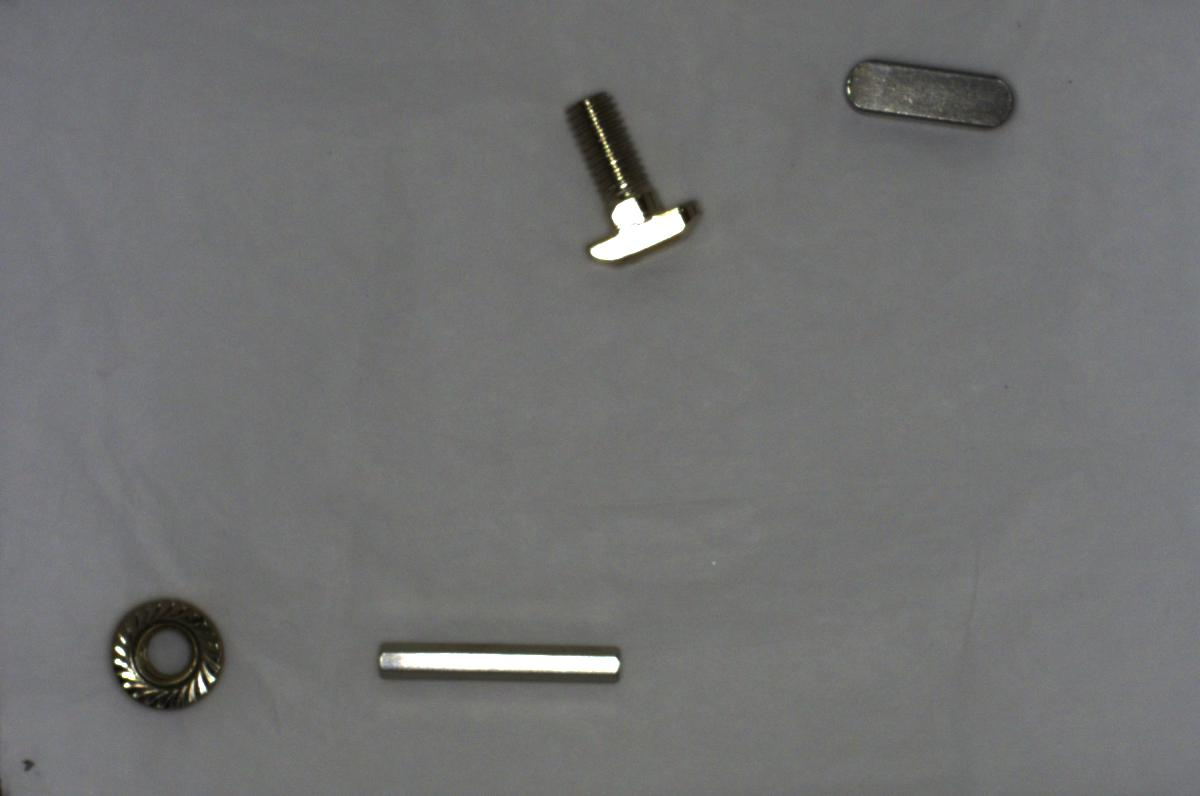Double hexagonal column: (366, 632, 637, 694)
Flange nut: (100, 588, 226, 723)
Keybar: (838, 55, 1015, 133)
T-shaped screw: (555, 78, 717, 275)
